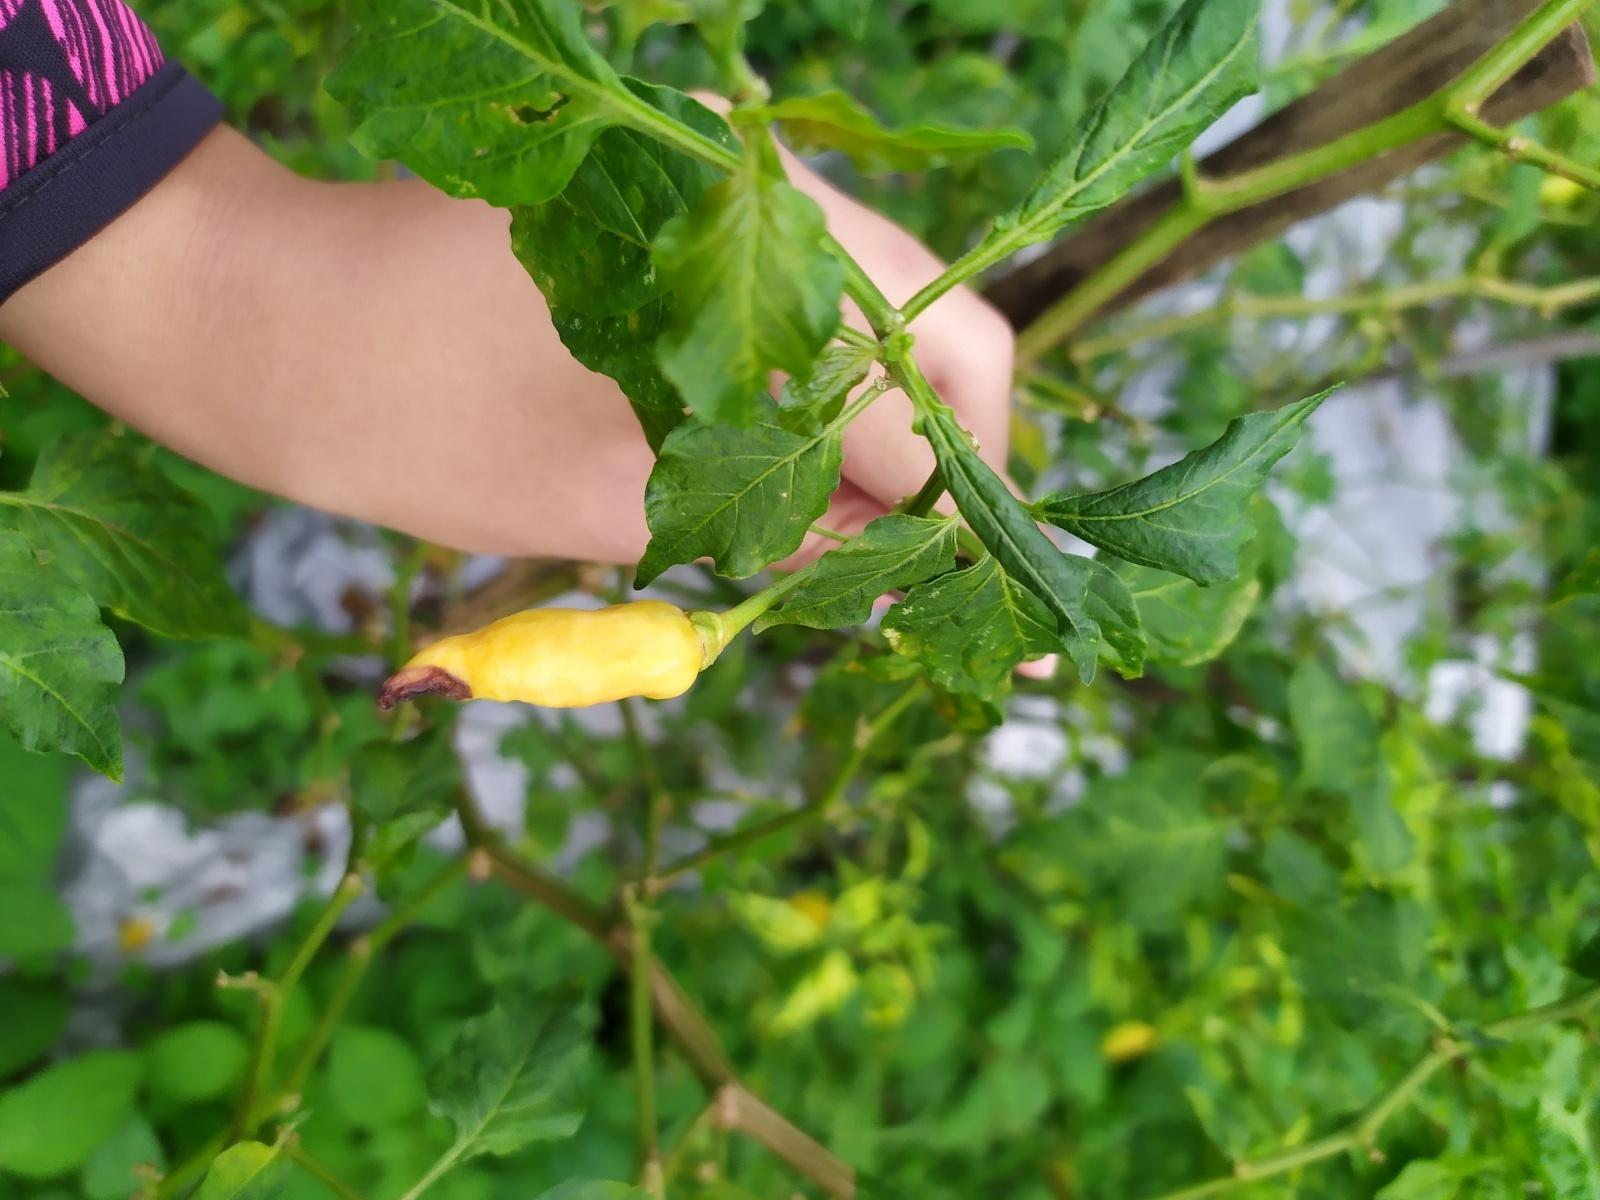antraknosa: (378, 600, 702, 711)
